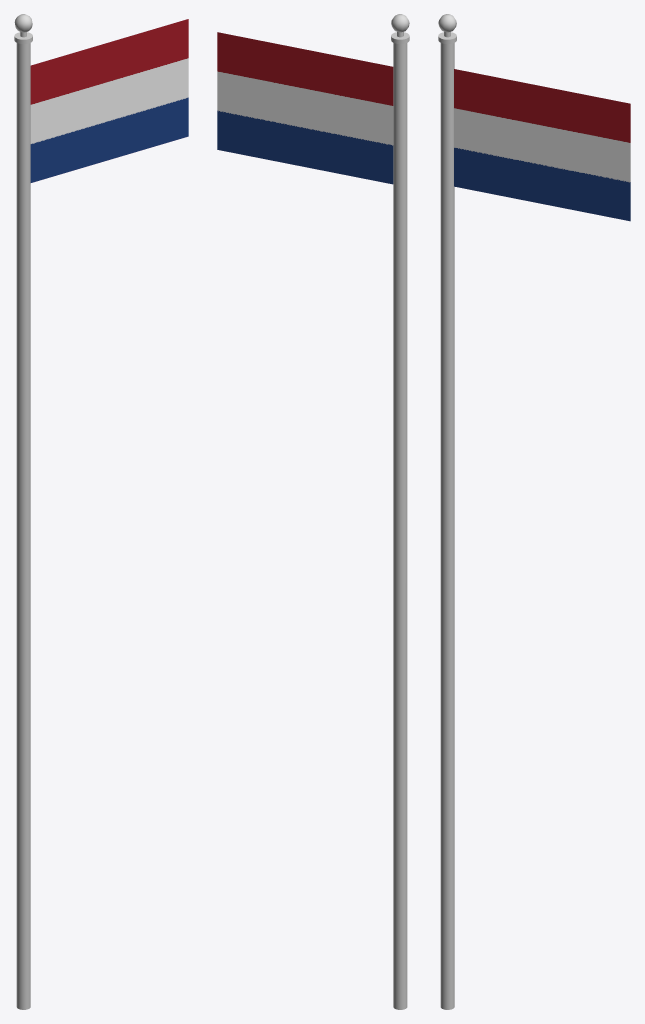
The model's file is FlagCountry_7.fbx.
3 renders of one model, left to right at view 1: azimuth 30°, elevation 25°; view 2: azimuth 150°, elevation 25°; view 3: azimuth 330°, elevation 25°, orthographic.
Parts seen in each view (by area): view 1: FlagCountry_7; view 2: FlagCountry_7; view 3: FlagCountry_7.
Boxes of the visible parts, left/top/right/bottom form: FlagCountry_7: left=14, top=14, right=188, bottom=1009; FlagCountry_7: left=217, top=14, right=409, bottom=1009; FlagCountry_7: left=438, top=14, right=630, bottom=1009.
Bounding box in the file's own units: 4.53 × 23.6 × 0.5914.
Materials: 2 (1 with a texture image).
